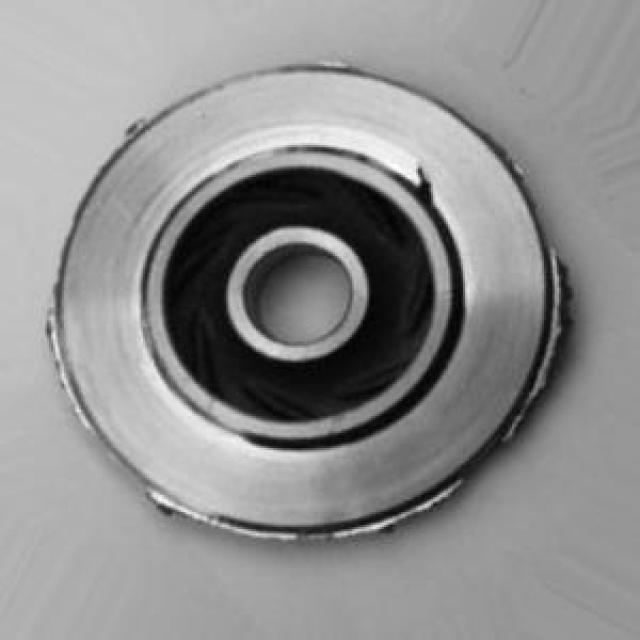Defect: (406, 162, 446, 214)
